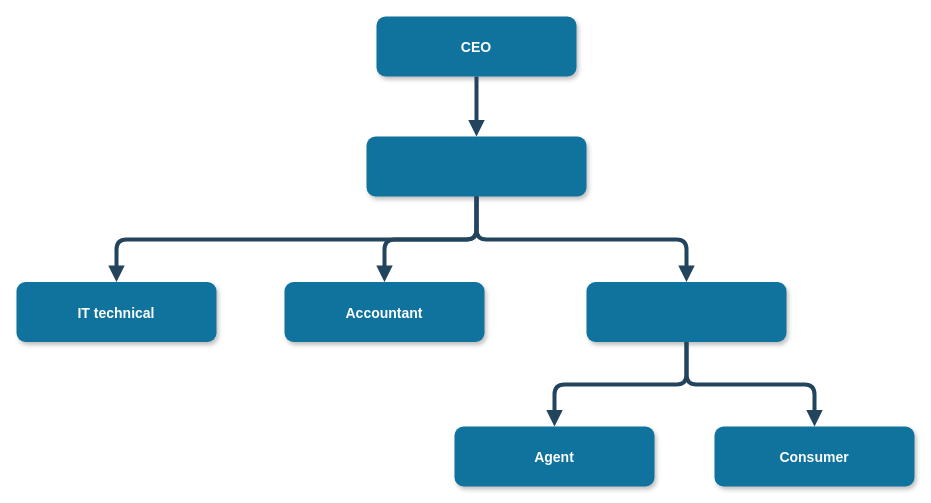
Image size: 931x503. Some labels were removed from this diagram. The shapes that lost their labels are listed below. From the top down, each one's centre as x and y in pixels, then its label:
point 477,167: Deputy Director
point 687,313: Customer
